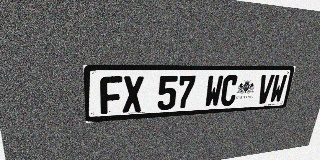5: (157, 76, 178, 110)
7: (176, 75, 196, 109)
C: (220, 75, 239, 106)
F: (100, 76, 122, 114)
V: (256, 75, 275, 104)
W: (204, 75, 224, 107), (269, 74, 288, 103)
X: (123, 76, 144, 113)
